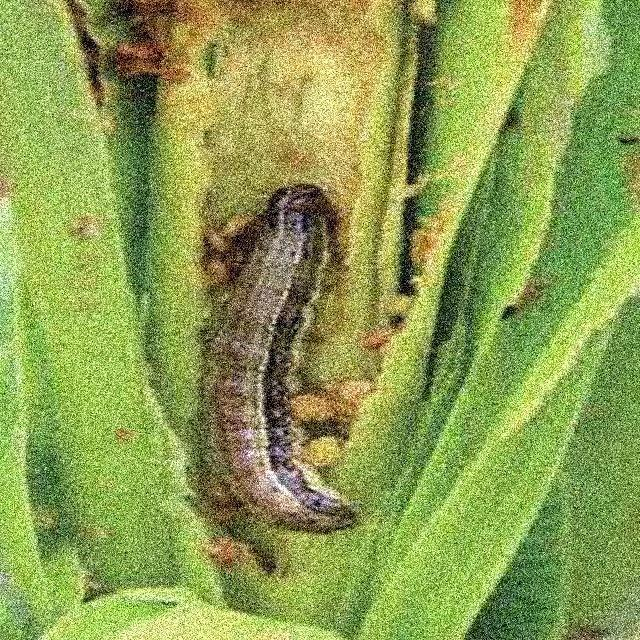Plaga: (207, 180, 365, 537)
